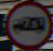Heavy Vehicles: (4, 1, 49, 42)
